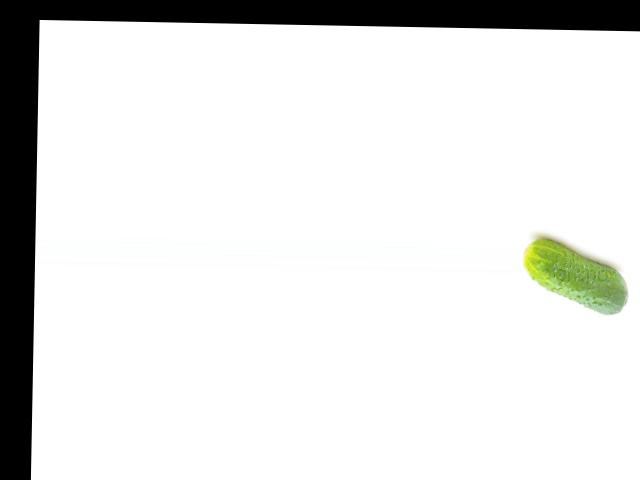cucumber: (521, 238, 629, 315)
